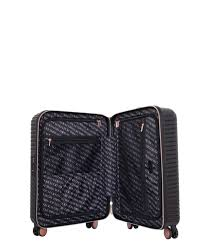suitcase: (26, 107, 182, 240)
